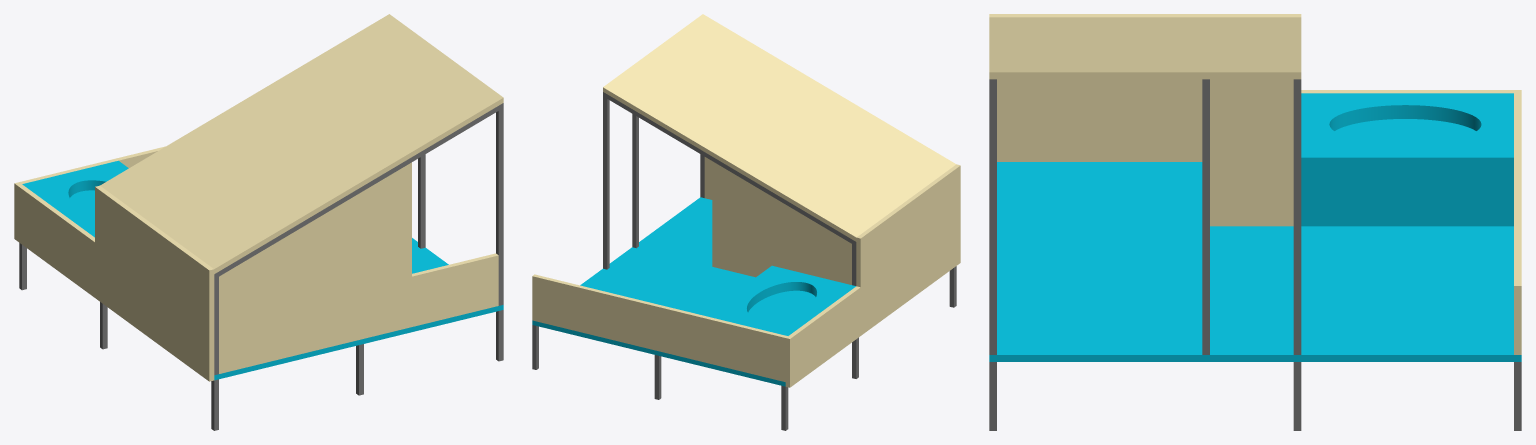
The model's file is Dog Shelter.glb.
3 renders of one model, left to right at view 1: azimuth 30°, elevation 25°; view 2: azimuth 150°, elevation 25°; view 3: azimuth 270°, elevation 25°, orthographic. The views are drawn at different scales.
Visible parts, largest first — view 1: Object_17, Object_14, Object_18, Object_19, Object_1, Object_6, Object_2, Object_10, Object_15, Object_12; view 2: Object_17, Object_18, Object_12, Object_6, Object_1, Object_16, Object_13, Object_3, Object_11, Object_15; view 3: Object_6, Object_1, Object_17, Object_18, Object_4, Object_11, Object_10, Object_15, Object_12, Object_24, Object_21, Object_8.
Part boxes in pixels (bbox=[...]): Object_17: bbox=[100, 14, 503, 273]; Object_14: bbox=[219, 162, 411, 373]; Object_18: bbox=[14, 182, 214, 381]; Object_19: bbox=[412, 253, 498, 326]; Object_1: bbox=[22, 160, 128, 237]; Object_6: bbox=[214, 238, 503, 380]; Object_2: bbox=[214, 103, 503, 375]; Object_10: bbox=[496, 108, 503, 305]; Object_15: bbox=[418, 154, 425, 248]; Object_12: bbox=[19, 146, 165, 183]; Object_17: bbox=[603, 14, 956, 241]; Object_18: bbox=[785, 164, 960, 387]; Object_12: bbox=[532, 274, 787, 381]; Object_6: bbox=[532, 197, 785, 386]; Object_1: bbox=[704, 265, 855, 335]; Object_16: bbox=[712, 161, 771, 277]; Object_13: bbox=[772, 196, 851, 284]; Object_3: bbox=[603, 92, 856, 285]; Object_11: bbox=[603, 96, 609, 269]; Object_15: bbox=[632, 114, 638, 248]; Object_6: bbox=[989, 162, 1521, 361]; Object_1: bbox=[1301, 93, 1513, 226]; Object_17: bbox=[989, 17, 1301, 79]; Object_18: bbox=[989, 14, 1521, 161]; Object_4: bbox=[1210, 79, 1293, 226]; Object_11: bbox=[1293, 86, 1301, 354]; Object_10: bbox=[989, 86, 996, 354]; Object_15: bbox=[1202, 86, 1209, 354]; Object_12: bbox=[1514, 93, 1521, 354]; Object_24: bbox=[1293, 362, 1301, 430]; Object_21: bbox=[989, 362, 996, 430]; Object_8: bbox=[1514, 362, 1521, 430].
Bounding box in the file's own units: 3.05 × 2.6 × 3.5.
